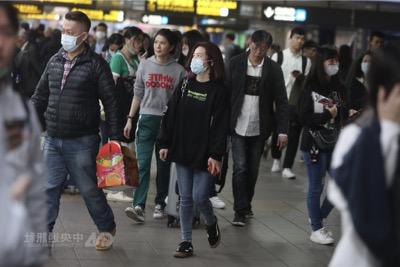mask_weared_incorrect: (127, 36, 145, 54), (181, 41, 190, 56)
with_mask: (59, 26, 82, 53), (188, 51, 209, 76), (323, 58, 339, 77), (360, 58, 374, 74), (94, 28, 105, 40), (107, 47, 117, 58)
without_mask: (249, 44, 267, 61), (152, 39, 169, 57), (290, 35, 306, 50), (370, 38, 382, 52), (305, 48, 316, 59)
